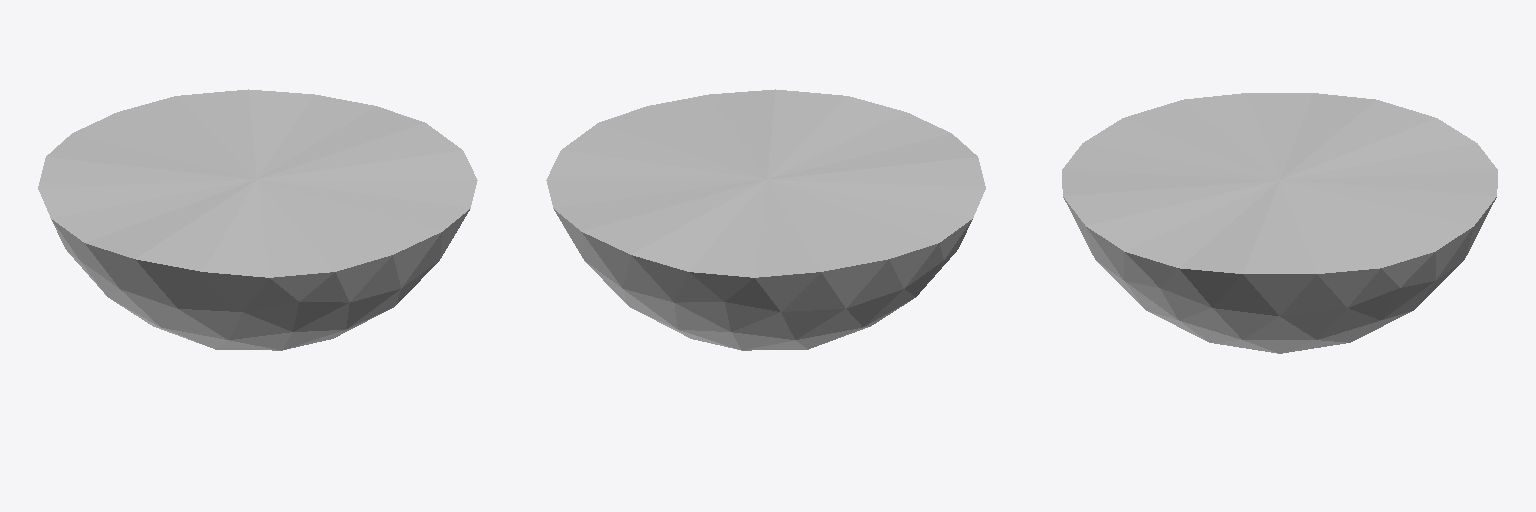
File: bolaMetade.obj
3 views of the same model, side by side, from view 1: azimuth 30°, elevation 25°; view 2: azimuth 150°, elevation 25°; view 3: azimuth 270°, elevation 25° (orthographic).
Visible parts, largest first — view 1: Icosphere; view 2: Icosphere; view 3: Icosphere.
Part boxes in pixels (bbox=[...]): Icosphere: bbox=[38, 89, 477, 350]; Icosphere: bbox=[546, 89, 985, 350]; Icosphere: bbox=[1062, 93, 1497, 353].
Size of the model in its own units: 1.9 by 0.7359 by 1.91.